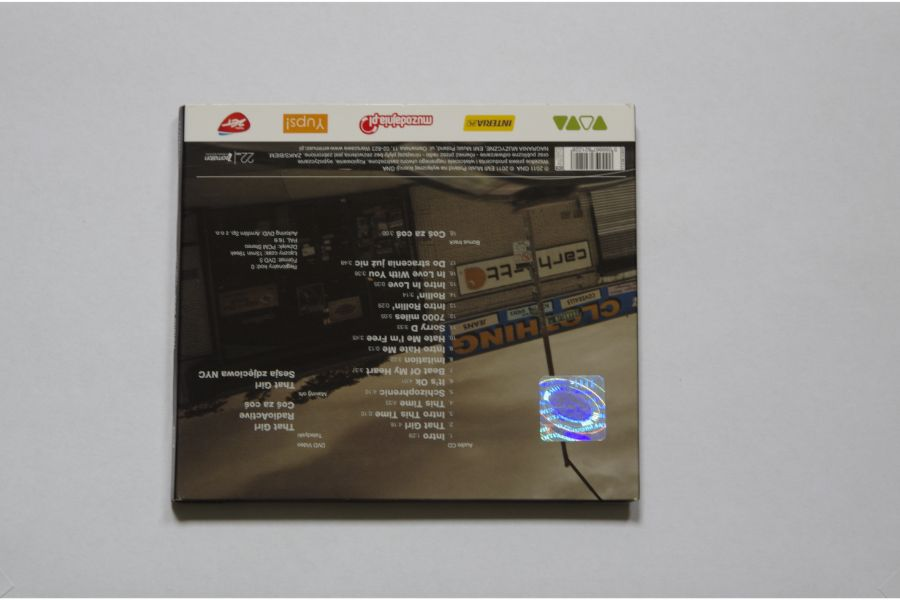album: (173, 101, 642, 508)
